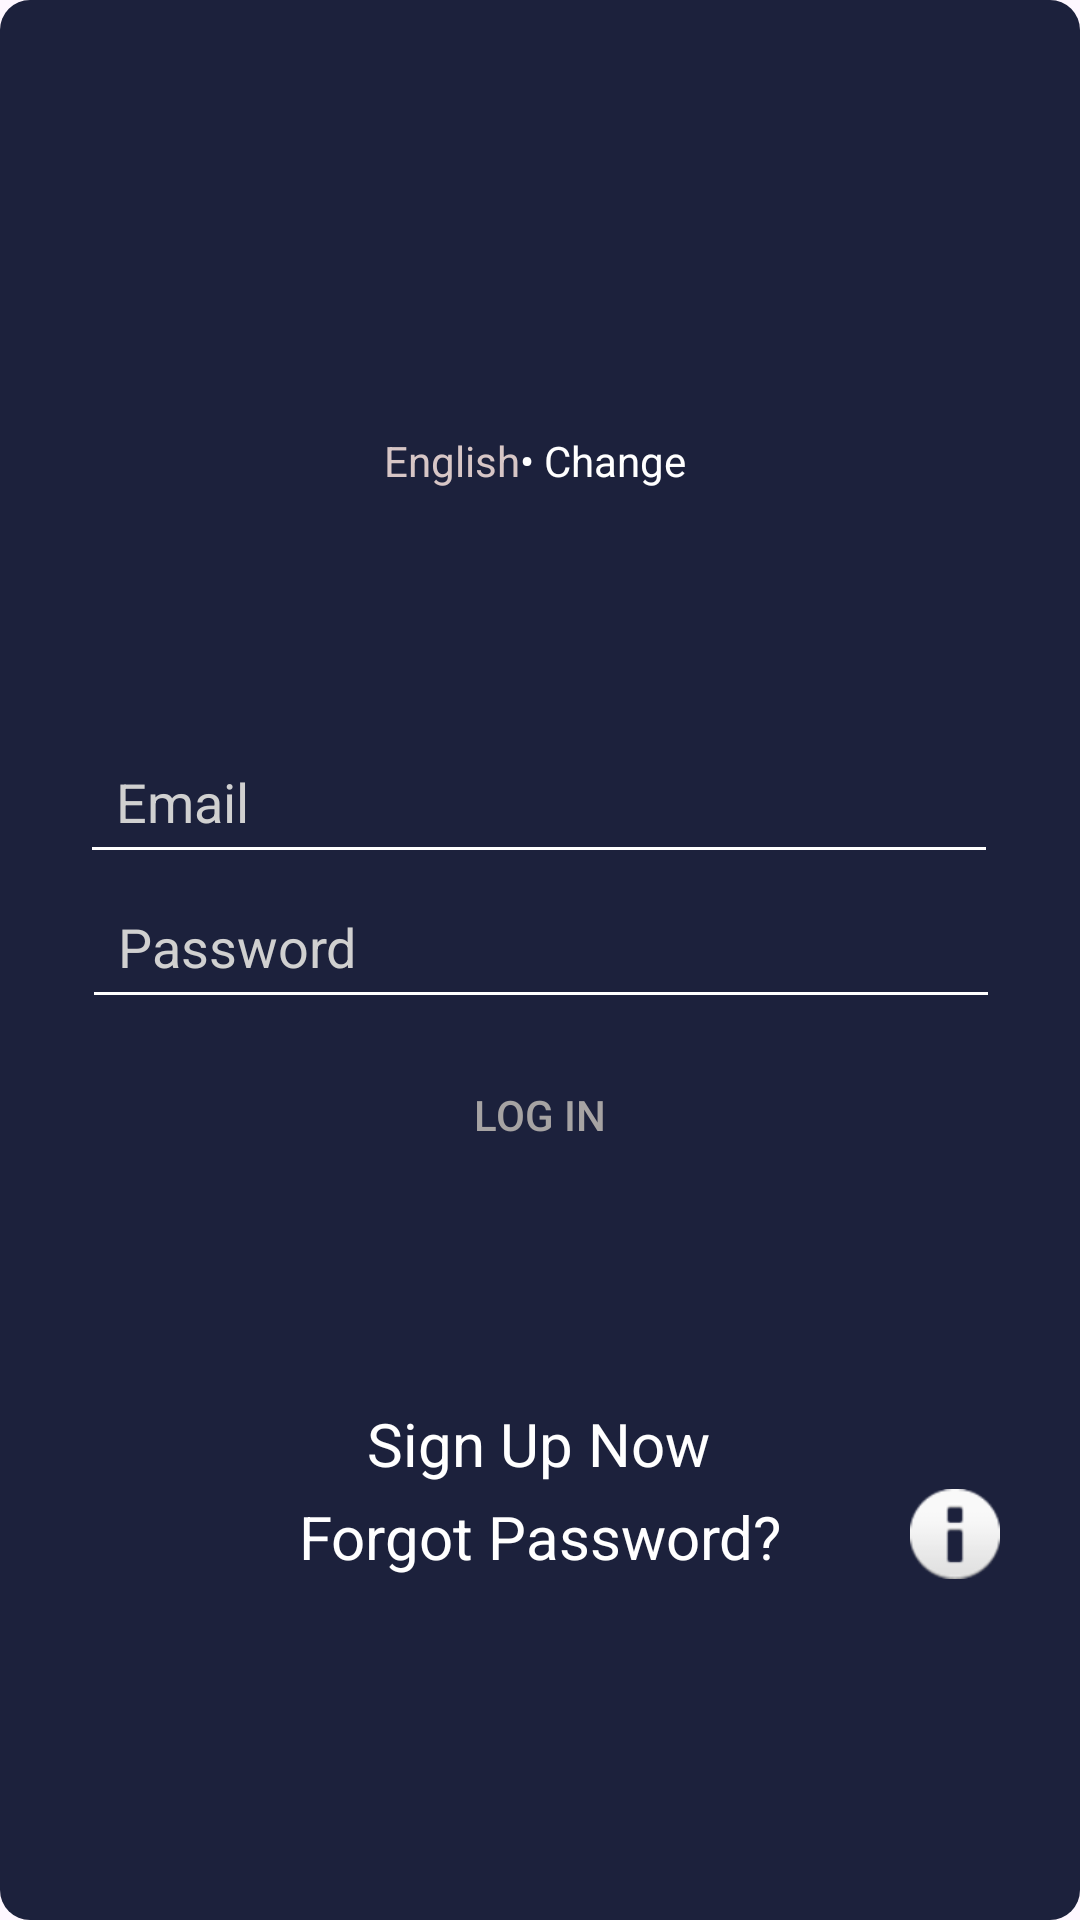

Icons on this 1080 x 1920 Android screen, each with its box as bbox=[x1, y1, x2, y2]:
Help: bbox=[910, 1489, 1000, 1579]
